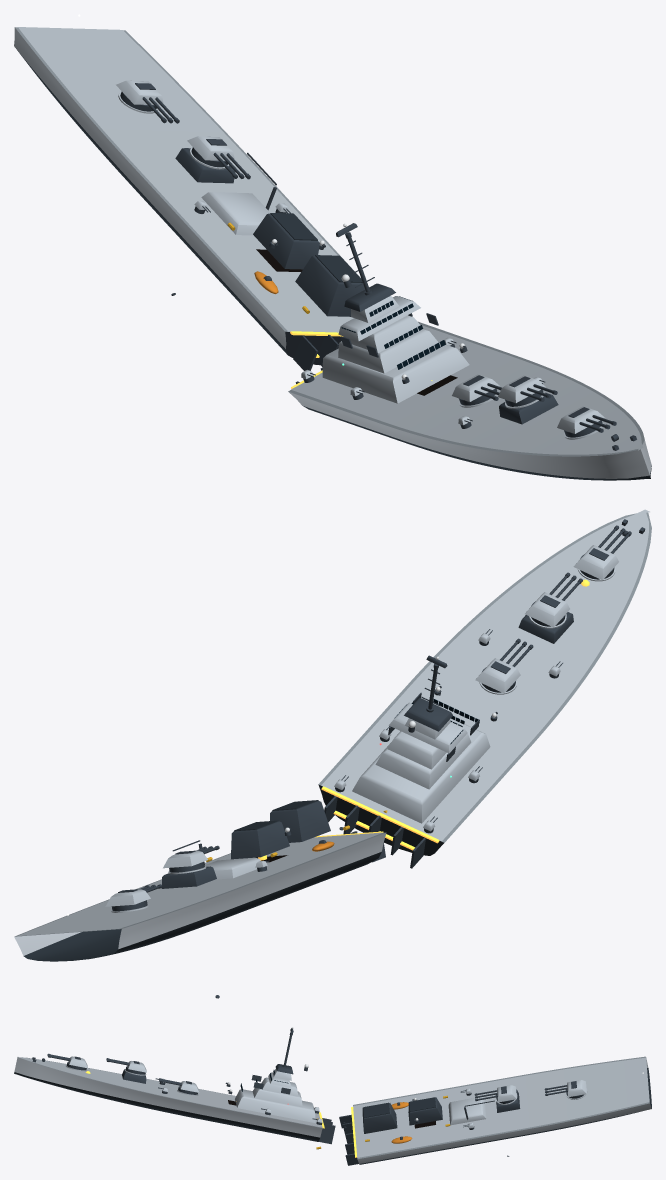
Rendered from wreck_dreadnought.glb.
3 renders of one model, top to bottom at view 1: azimuth 30°, elevation 25°; view 2: azimuth 150°, elevation 25°; view 3: azimuth 270°, elevation 25°, orthographic. The views are drawn at different scales.
Visible parts, largest first — view 1: deck_plate_aft, deck_plate_fore, hull_fore, hull_aft, tower_base, funnel_1, tower_t1, aft_house, deck_aft, deck_fore, funnel_2, hull_under_aft (+11 smaller); view 2: deck_plate_fore, deck_plate_aft, hull_aft, tower_base, hull_under_aft, deck_fore, tower_t1, funnel_2, funnel_1, cap_fore_lo, tower_t2, tower_bridge (+10 smaller); view 3: deck_plate_aft, hull_fore, deck_plate_fore, hull_aft, hull_under_fore, tower_base, deck_aft, aft_house, funnel_1, tower_t1, hull_under_aft, funnel_2 (+9 smaller).
Part boxes in pixels (x1=…): deck_plate_aft: x1=18, y1=27, x2=353, y2=332; deck_plate_fore: x1=291, y1=325, x2=643, y2=454; hull_fore: x1=289, y1=392, x2=651, y2=478; hull_aft: x1=14, y1=27, x2=286, y2=348; tower_base: x1=322, y1=342, x2=469, y2=403; funnel_1: x1=295, y1=255, x2=364, y2=316; tower_t1: x1=338, y1=329, x2=439, y2=373; aft_house: x1=201, y1=192, x2=270, y2=235; deck_aft: x1=15, y1=27, x2=369, y2=331; deck_fore: x1=288, y1=321, x2=644, y2=456; funnel_2: x1=253, y1=213, x2=319, y2=269; hull_under_aft: x1=17, y1=50, x2=287, y2=354; deck_plate_fore: x1=321, y1=509, x2=649, y2=841; deck_plate_aft: x1=17, y1=832, x2=382, y2=936; hull_aft: x1=14, y1=832, x2=386, y2=955; tower_base: x1=352, y1=718, x2=490, y2=823; hull_under_aft: x1=23, y1=851, x2=381, y2=961; deck_fore: x1=318, y1=512, x2=651, y2=842; tower_t1: x1=375, y1=733, x2=471, y2=789; funnel_2: x1=231, y1=821, x2=289, y2=859; funnel_1: x1=270, y1=801, x2=330, y2=842; cap_fore_lo: x1=318, y1=784, x2=443, y2=855; tower_t2: x1=387, y1=731, x2=446, y2=769; tower_bridge: x1=388, y1=702, x2=467, y2=753; deck_plate_aft: x1=353, y1=1057, x2=649, y2=1157; hull_fore: x1=14, y1=1057, x2=322, y2=1137; deck_plate_fore: x1=18, y1=1057, x2=322, y2=1127; hull_aft: x1=357, y1=1058, x2=651, y2=1163; hull_under_fore: x1=14, y1=1072, x2=319, y2=1141; tower_base: x1=235, y1=1089, x2=315, y2=1122; deck_aft: x1=353, y1=1056, x2=649, y2=1159; aft_house: x1=448, y1=1097, x2=486, y2=1125; funnel_1: x1=362, y1=1103, x2=397, y2=1133; tower_t1: x1=252, y1=1088, x2=302, y2=1107; hull_under_aft: x1=359, y1=1068, x2=651, y2=1164; funnel_2: x1=408, y1=1097, x2=442, y2=1125.
Size of the model in its own units: 6.38 by 8.61 by 41.26.
